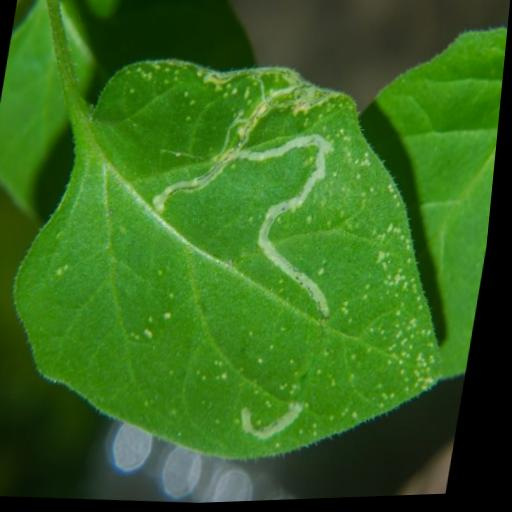Leaf_Miner: (0, 41, 498, 489)
